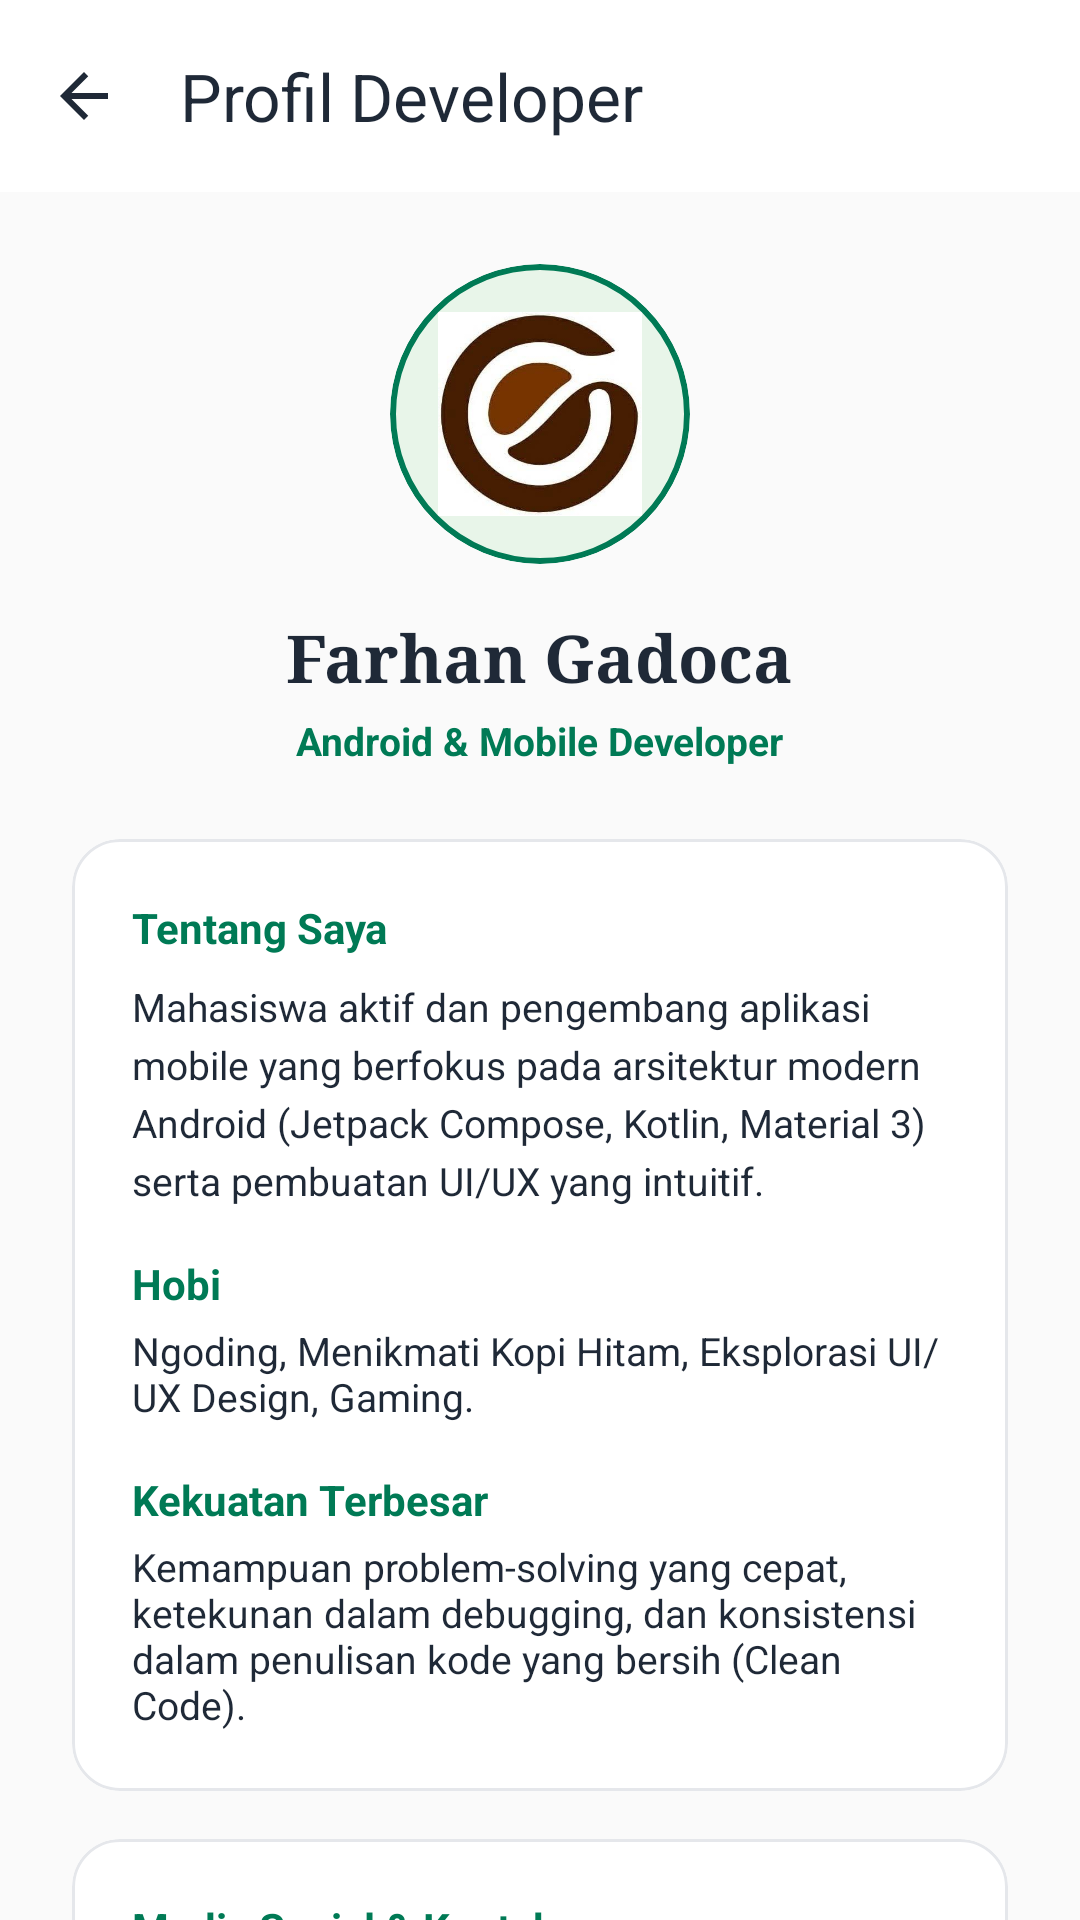

Icons on this 1080px×1920px Android screen, each with its box as (x1, y1, x2, y2):
Developer Avatar: (390, 264, 690, 564)
